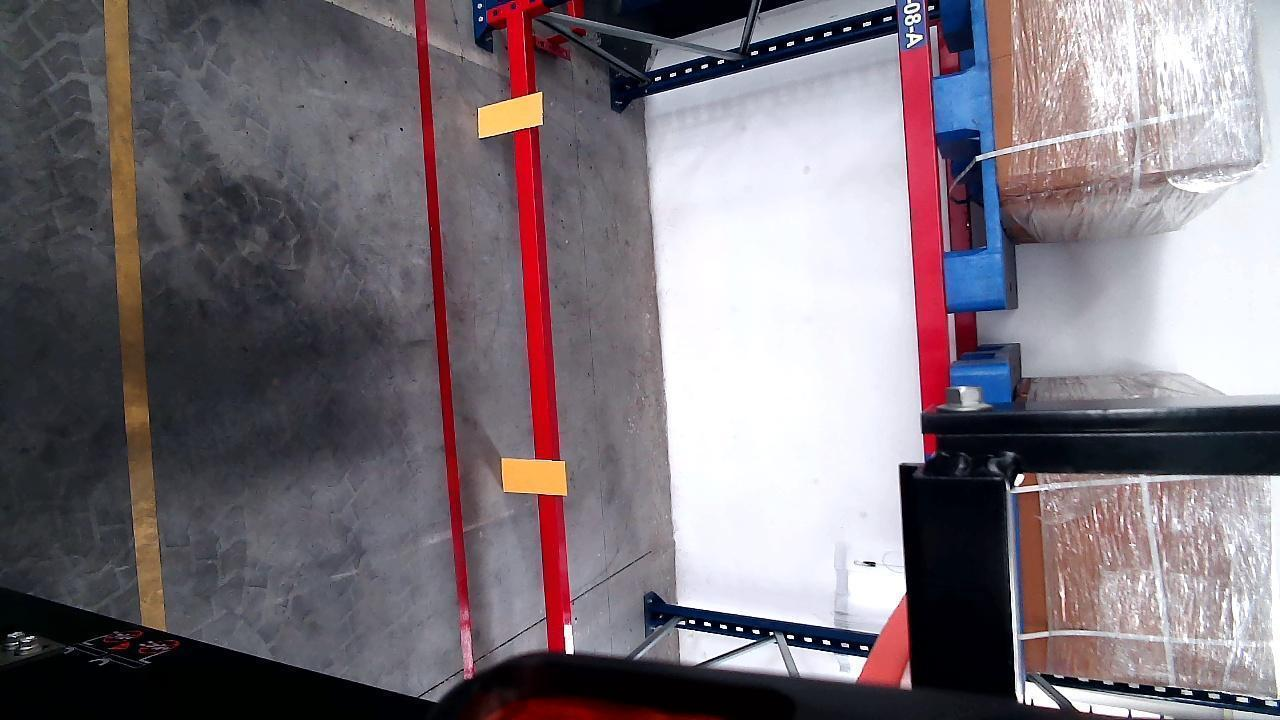red_line: (414, 0, 474, 686)
yellow_line: (101, 0, 165, 631)
